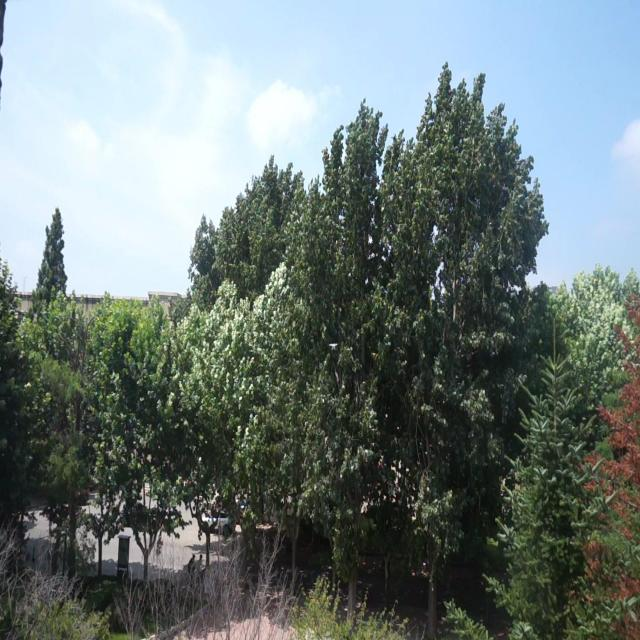UAV: (328, 343, 338, 350)
